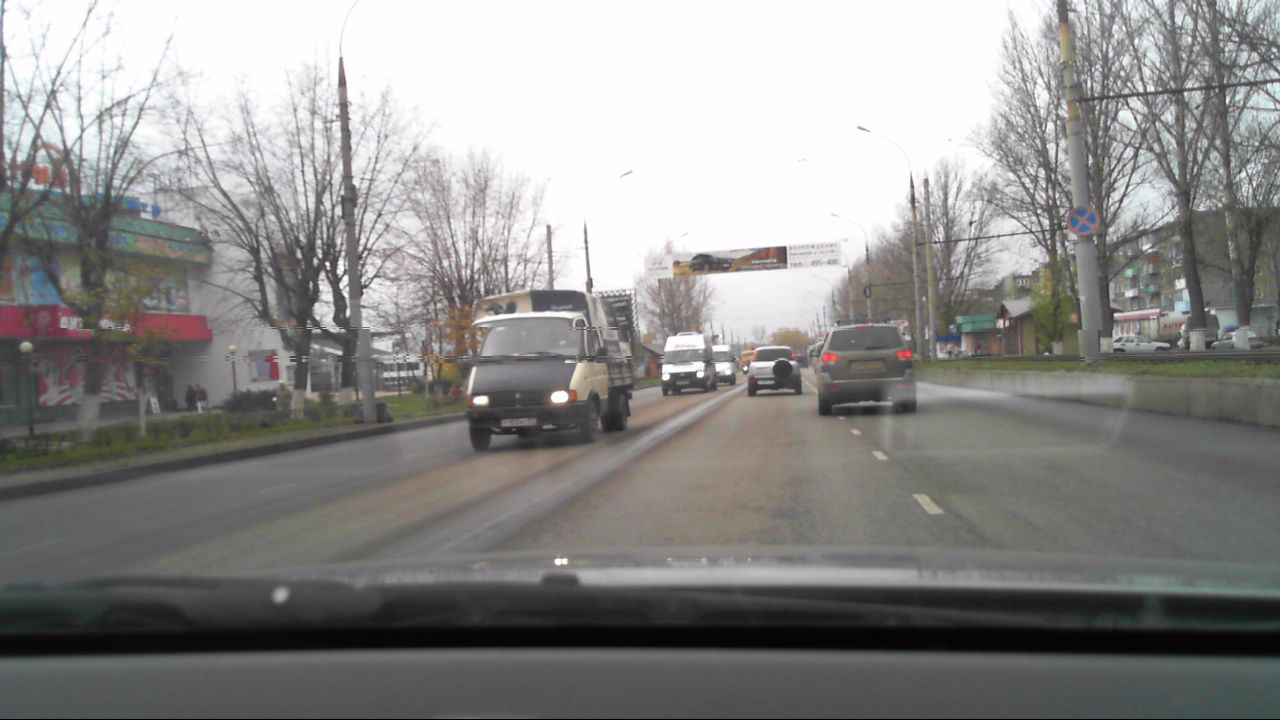No Parking: (1065, 203, 1101, 237)
